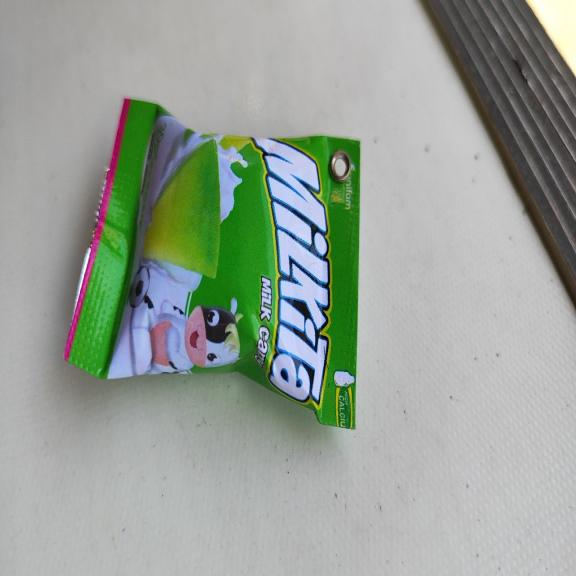Plastik: (61, 96, 362, 428)
